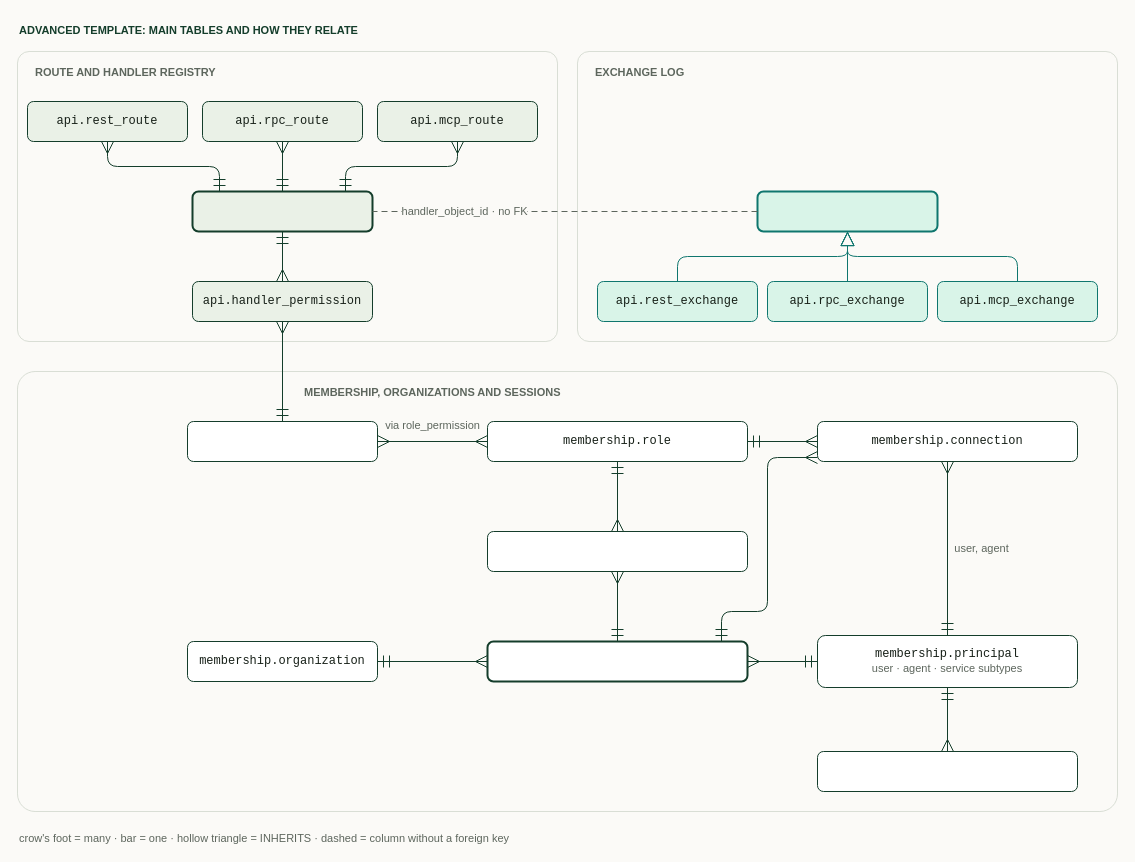
This 1135x862 diagram has some shape labels left out. The box of each missing label's shape, as (x1, y1, x2, y2) in pixels:
api.exchange: (756, 190, 938, 232)
api.handler: (191, 190, 373, 232)
membership.login_session: (816, 750, 1078, 792)
membership.organization_membership: (486, 640, 748, 682)
membership.permission: (186, 420, 378, 462)
membership.role_assignment: (486, 530, 748, 572)
